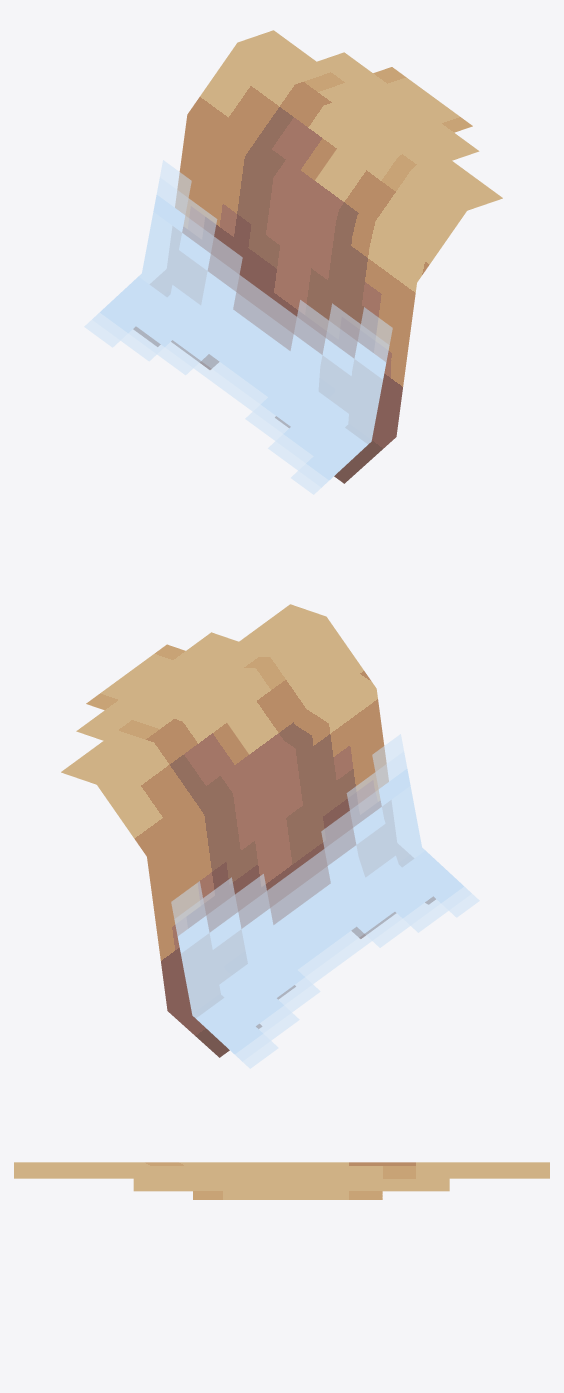
The picture shows the model from 3 angles, top to bottom: view 1: azimuth 30°, elevation 25°; view 2: azimuth 150°, elevation 25°; view 3: azimuth 270°, elevation 25°; orthographic projection. The views are drawn at different scales.
Bounding box in the file's own units: 0.7695 × 0.7266 × 1.
Materials: 2 (2 with a texture image).
